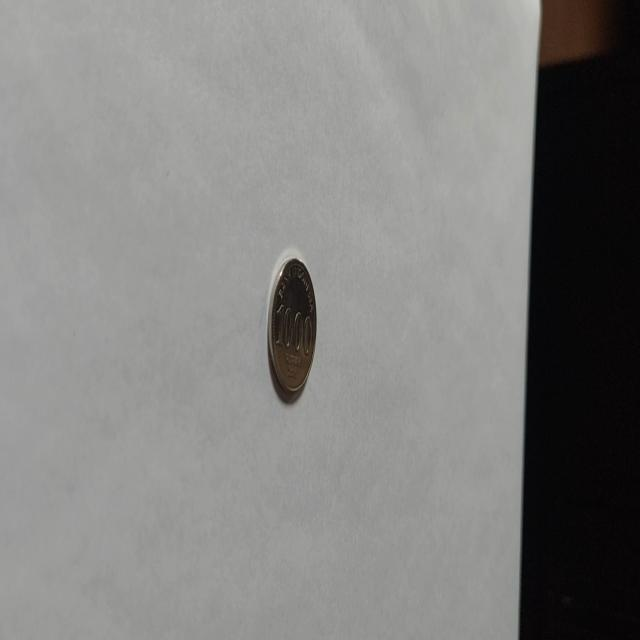seribu rupiah koin: (266, 254, 318, 396)
